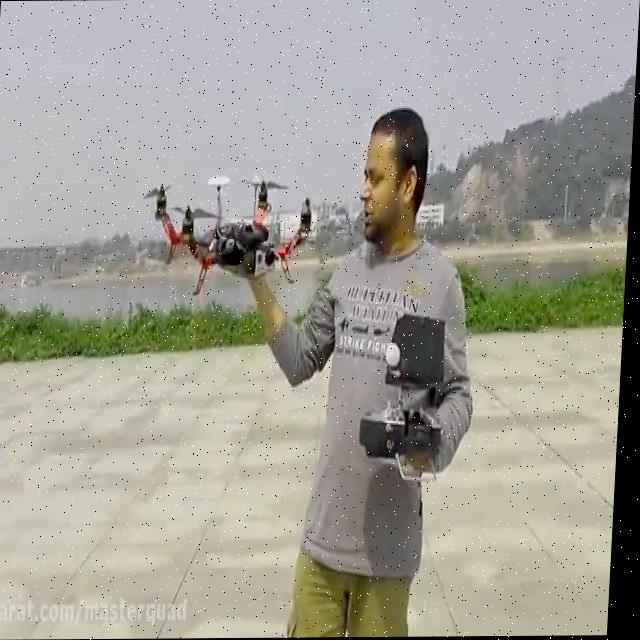drone: (136, 171, 324, 298)
